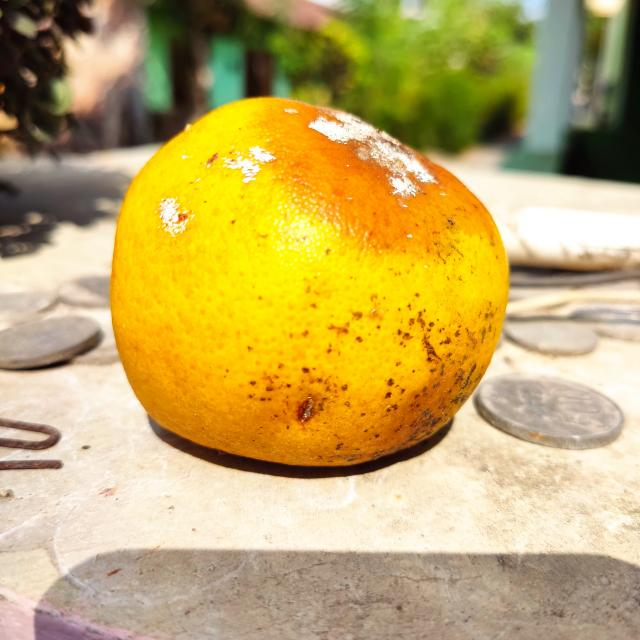orange: (101, 91, 510, 470)
